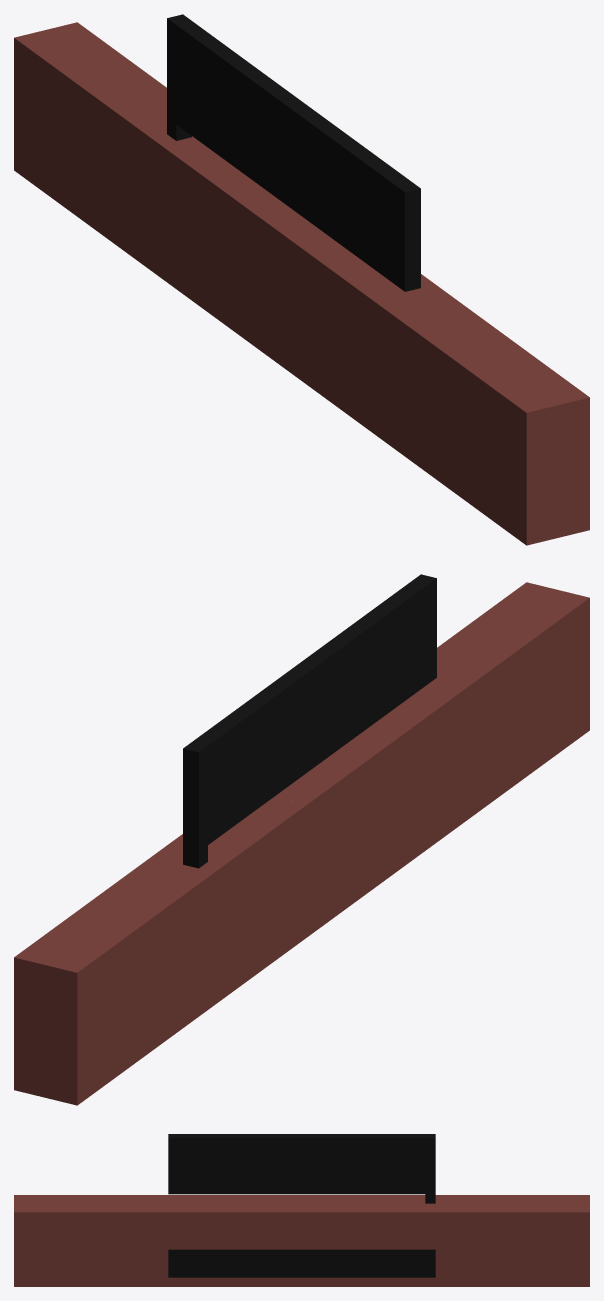
File: estate_front_bumper.glb
3 renders of one model, top to bottom at view 1: azimuth 30°, elevation 25°; view 2: azimuth 150°, elevation 25°; view 3: azimuth 270°, elevation 25°, orthographic. The views are drawn at different scales.
Parts seen in each view (by area): view 1: body:compound; view 2: body:compound; view 3: body:compound.
Boxes of the visible parts, x1,y1,x2,y2 form: body:compound: (14,14,589,545); body:compound: (14,574,589,1105); body:compound: (14,1134,589,1286).
Size of the model in its own units: 0.125 by 0.4688 by 1.75.
